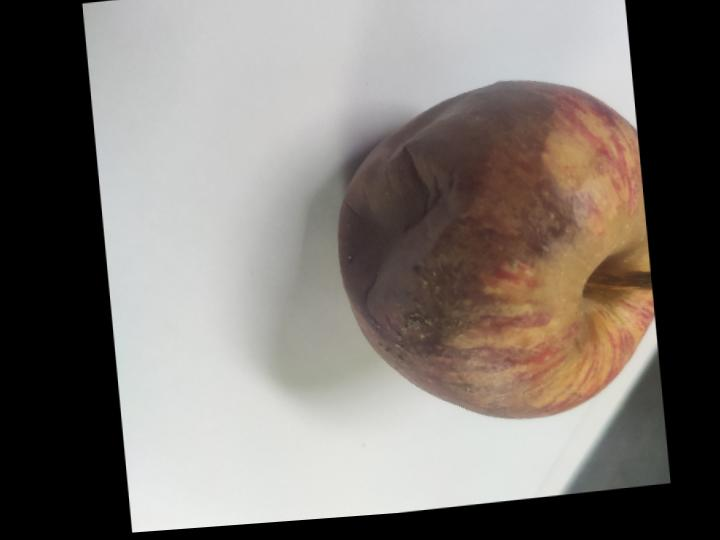apple: (338, 81, 655, 418)
bruise_discoloration: (454, 82, 655, 418)
rot_mold_decay: (338, 81, 599, 414)
